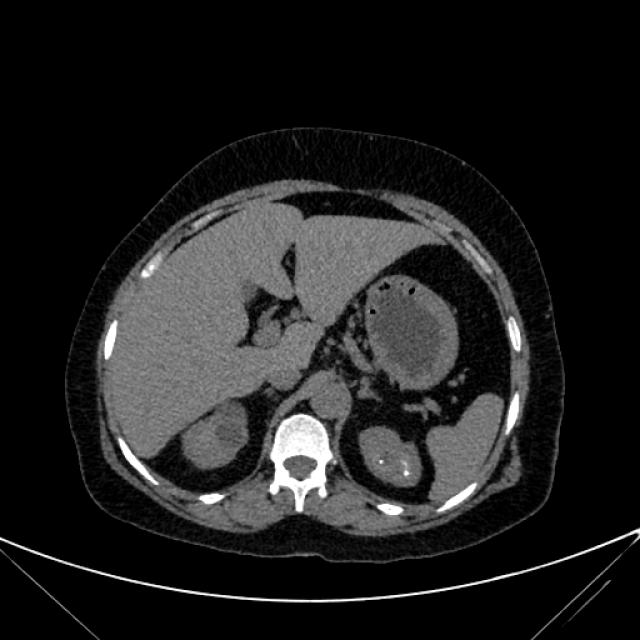kidney: (185, 397, 251, 473), (356, 420, 423, 490)
stone: (376, 459, 387, 466), (402, 469, 410, 478)
